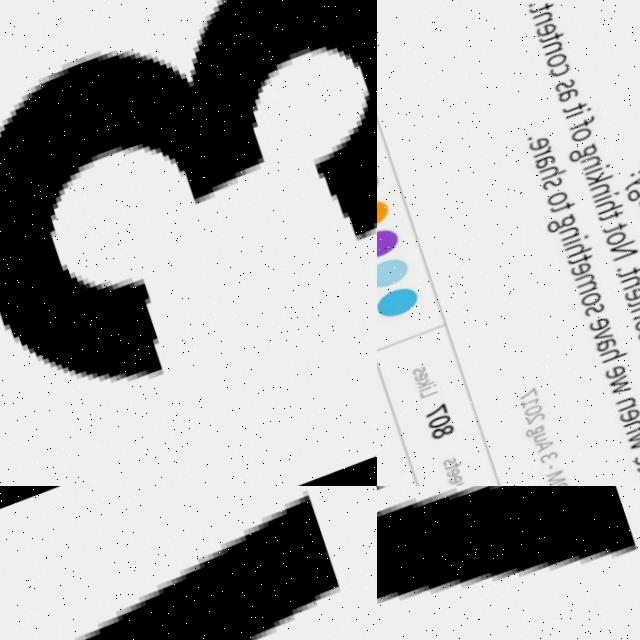3: (0, 0, 377, 433), (423, 404, 449, 422), (518, 390, 539, 403)
4: (429, 423, 458, 444)
A: (531, 155, 558, 175), (594, 338, 621, 356), (555, 88, 580, 107), (536, 440, 556, 456)
C: (548, 64, 572, 82)
D: (0, 486, 377, 640)
E: (602, 366, 629, 385), (568, 263, 593, 282), (587, 318, 612, 337), (525, 138, 551, 156), (617, 408, 640, 428), (534, 23, 558, 41), (621, 288, 640, 307), (443, 468, 463, 482), (447, 474, 465, 486), (413, 373, 428, 384), (632, 452, 640, 472)
F: (566, 118, 597, 136)
G: (544, 214, 579, 237), (567, 145, 599, 167), (524, 426, 547, 441), (625, 185, 640, 207)
H: (594, 199, 623, 218), (599, 348, 628, 367), (565, 242, 594, 261), (538, 165, 568, 183), (622, 419, 640, 438)
I: (562, 236, 591, 250), (584, 166, 612, 179), (564, 110, 592, 123), (593, 193, 620, 206), (418, 385, 438, 394)
K: (584, 170, 614, 189), (415, 378, 436, 390)
L: (419, 388, 439, 401)
M: (572, 274, 599, 298), (545, 471, 567, 486)
N: (609, 242, 639, 265), (579, 156, 602, 175), (615, 398, 639, 416), (618, 276, 640, 294), (531, 12, 553, 29), (541, 42, 563, 58), (558, 228, 580, 244), (590, 186, 610, 201), (628, 306, 640, 324)
O: (543, 192, 570, 212), (604, 231, 629, 251), (544, 53, 569, 73), (578, 292, 603, 312), (569, 128, 593, 146), (633, 318, 640, 337)
P: (549, 483, 569, 486)
R: (530, 147, 553, 162)
S: (552, 78, 576, 96), (583, 304, 607, 322), (540, 177, 564, 195), (441, 458, 458, 469), (410, 367, 427, 378)
T: (536, 32, 565, 49), (547, 202, 576, 219), (595, 211, 624, 227), (601, 223, 628, 240), (561, 102, 588, 119), (527, 2, 555, 18), (567, 254, 594, 270), (616, 268, 640, 284), (444, 462, 463, 475), (627, 298, 640, 314)
U: (531, 433, 549, 447)
V: (591, 329, 614, 347)
W: (608, 377, 633, 401), (625, 431, 640, 456), (450, 482, 467, 486)
Y: (377, 486, 640, 640), (620, 174, 640, 195)
